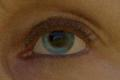eye: (43, 30, 74, 54)
